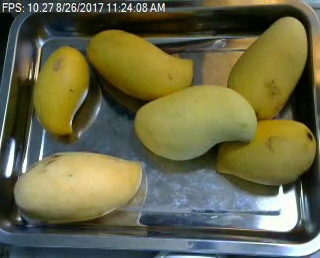Mango: (15, 150, 143, 223), (136, 83, 258, 159), (225, 14, 307, 120), (87, 28, 195, 99), (213, 118, 317, 187), (31, 46, 92, 135)
